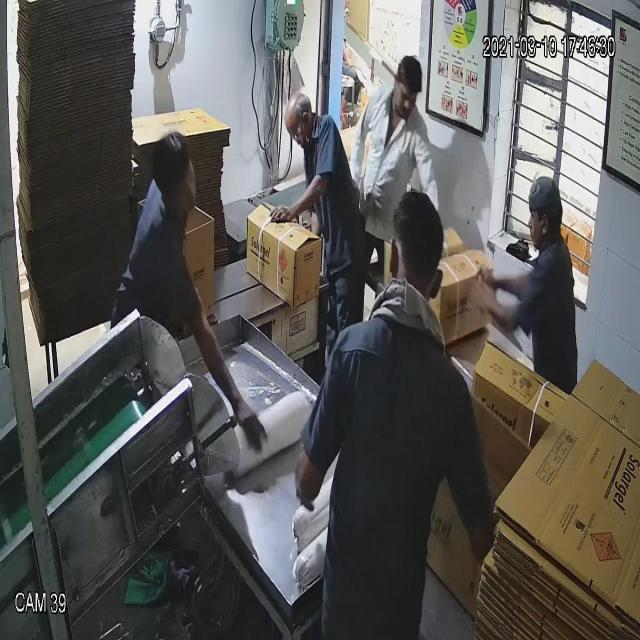No_Gloves: (66, 60, 501, 377)
